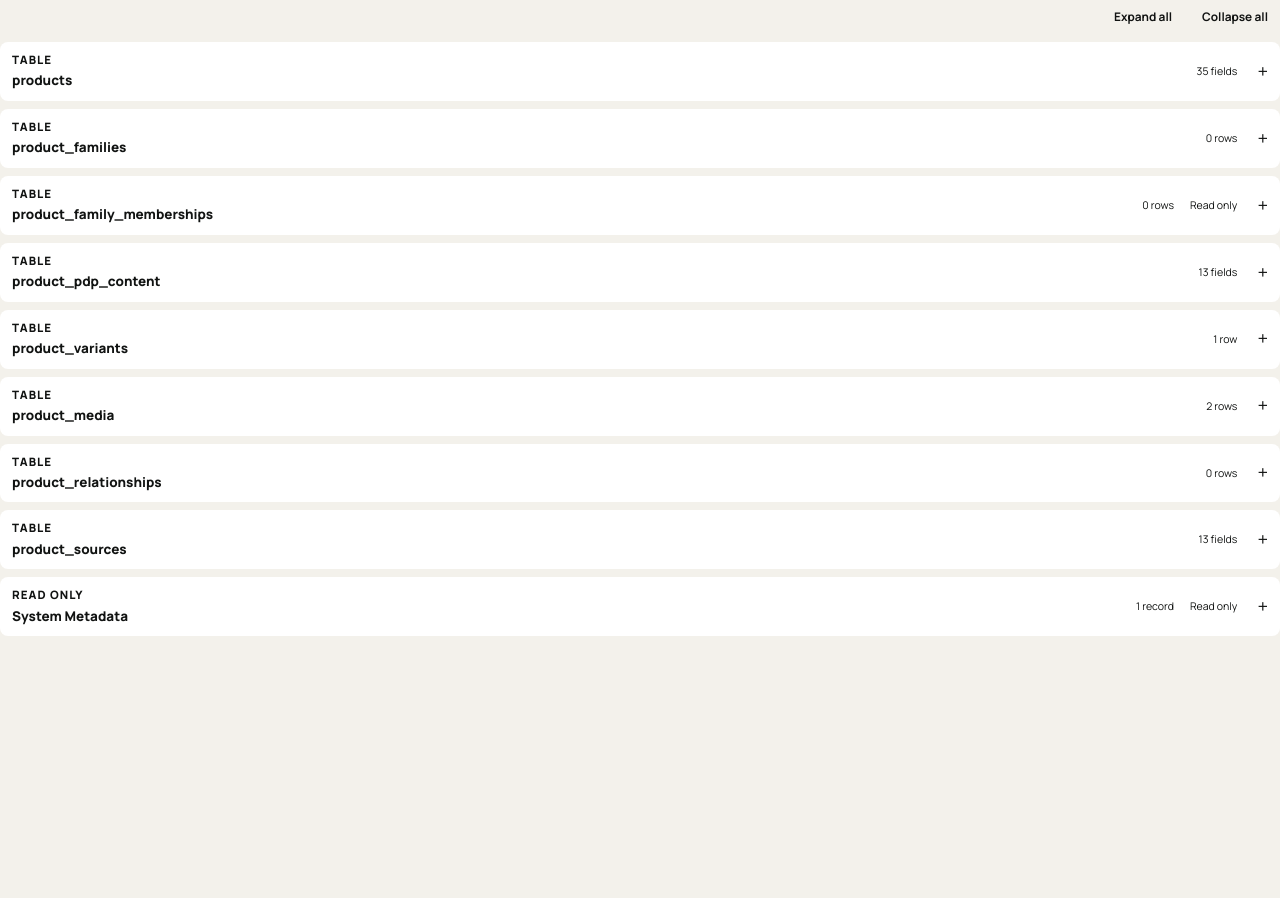
Test: CatalogEditor sections › groups canonical tables and exposes admin source fields
expect the text "products" is shown: met, box x1=12 y1=71 x2=72 y2=89
expect the text "product_families" is shown: met, box x1=12 y1=138 x2=126 y2=156
What coordinates should you click on to do the following:
click the heading "Table product_sources 13 fields"
I would click on:
 (32, 528)
Its box is x1=0 y1=510 x2=1279 y2=569.
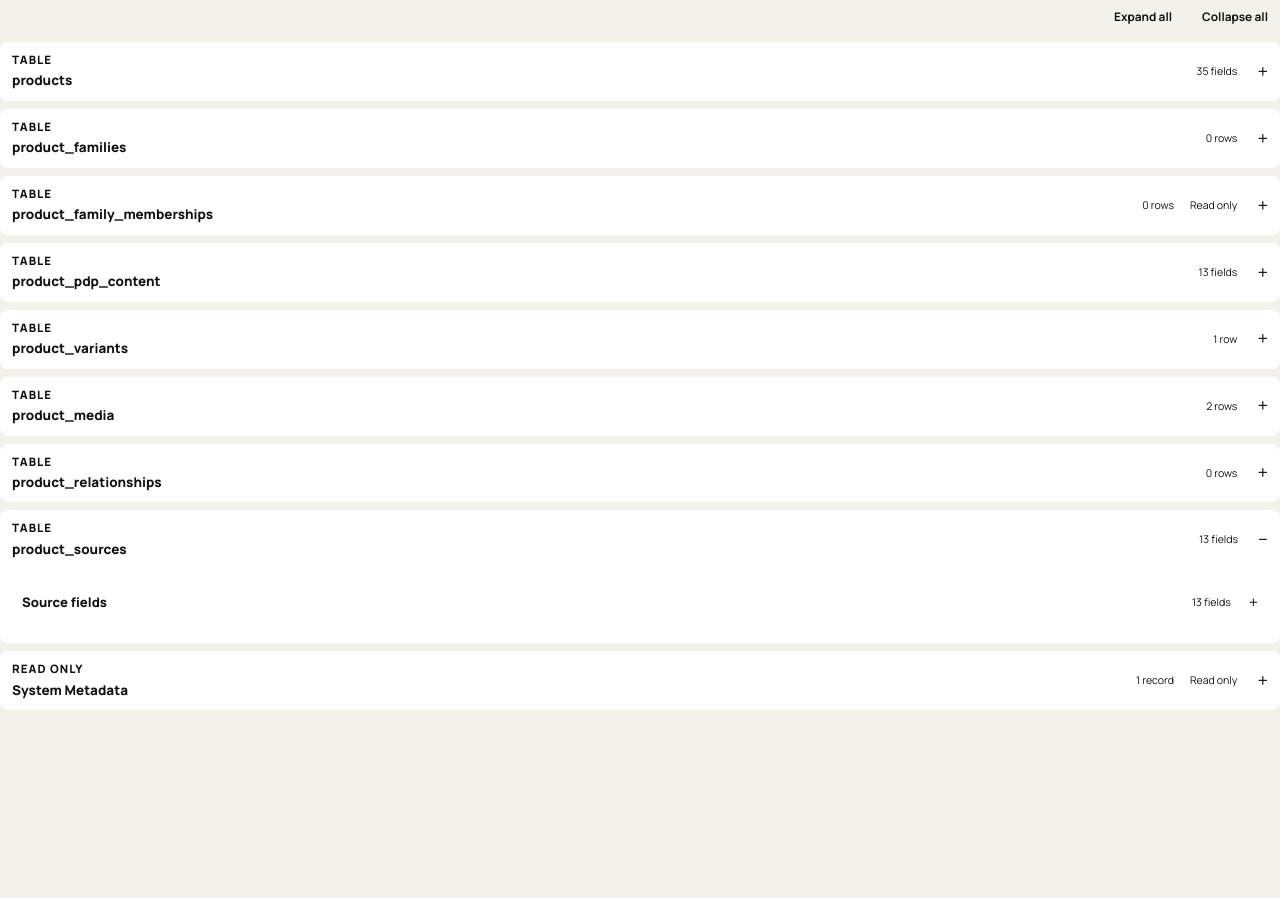
What coordinates should you click on to do the following:
click the heading "Source fields 13 fields"
I would click on:
 (65, 602)
Its box is x1=22 y1=593 x2=1231 y2=611.
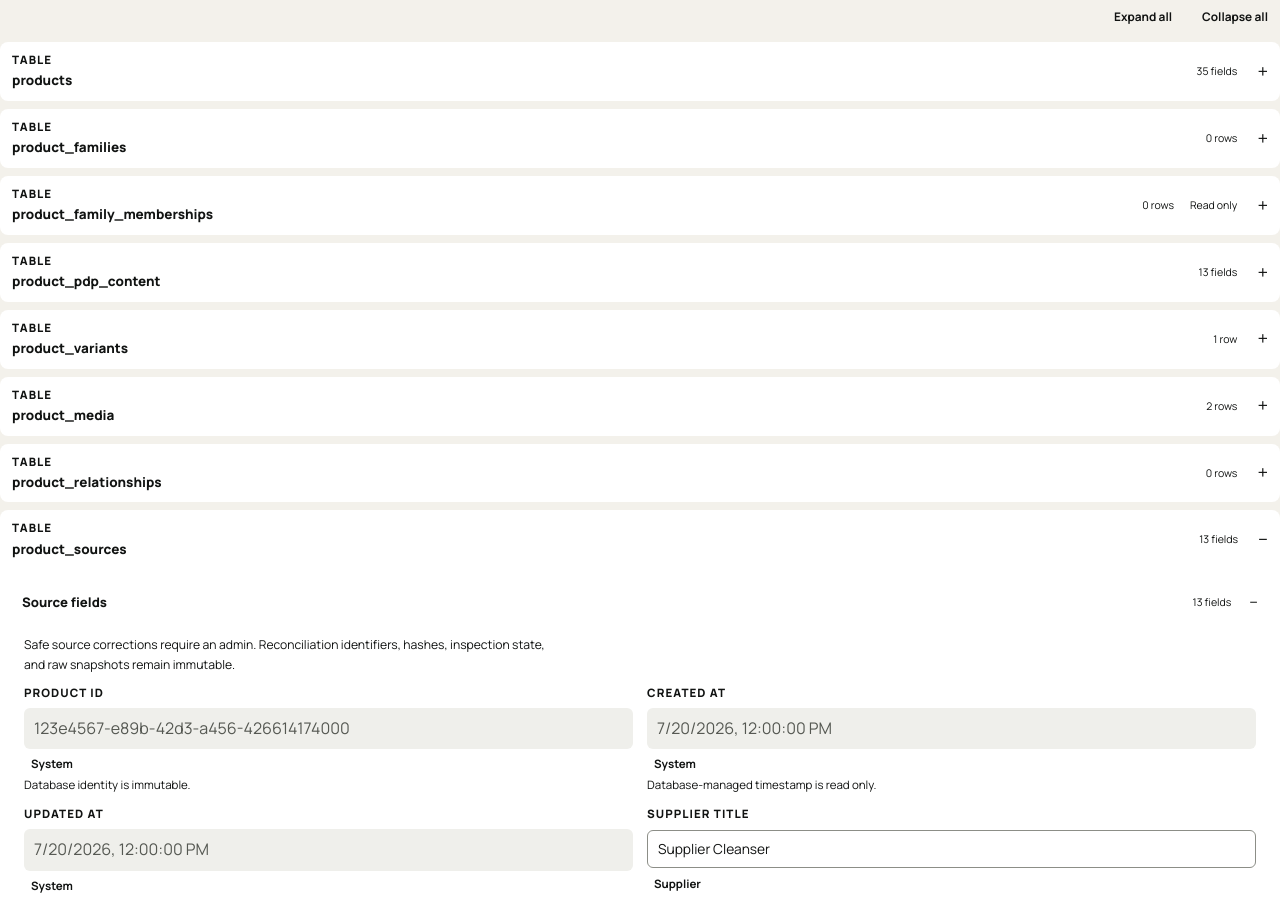
expect the field showing "Supplier Cleanser" is shown: met, box x1=647 y1=830 x2=1256 y2=868
